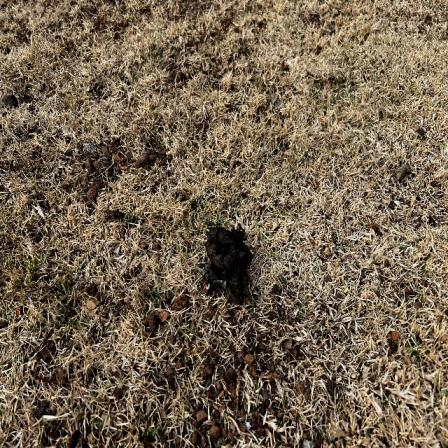dog-poop: (201, 219, 259, 301)
